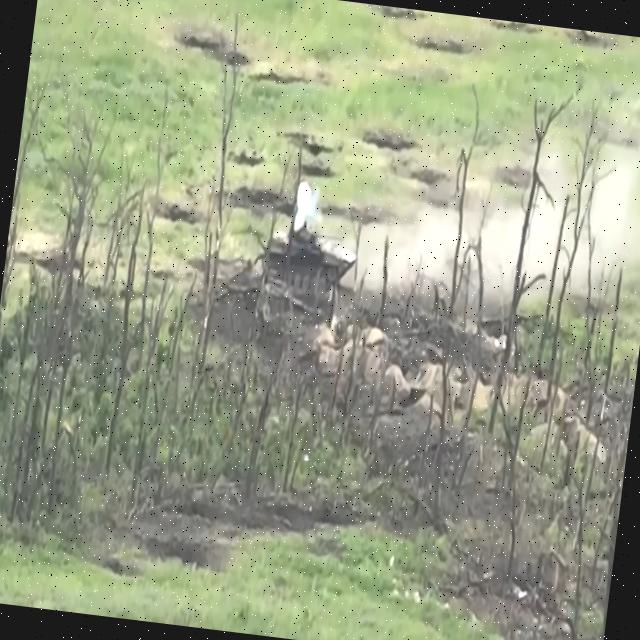AIFV: (261, 217, 363, 292)
